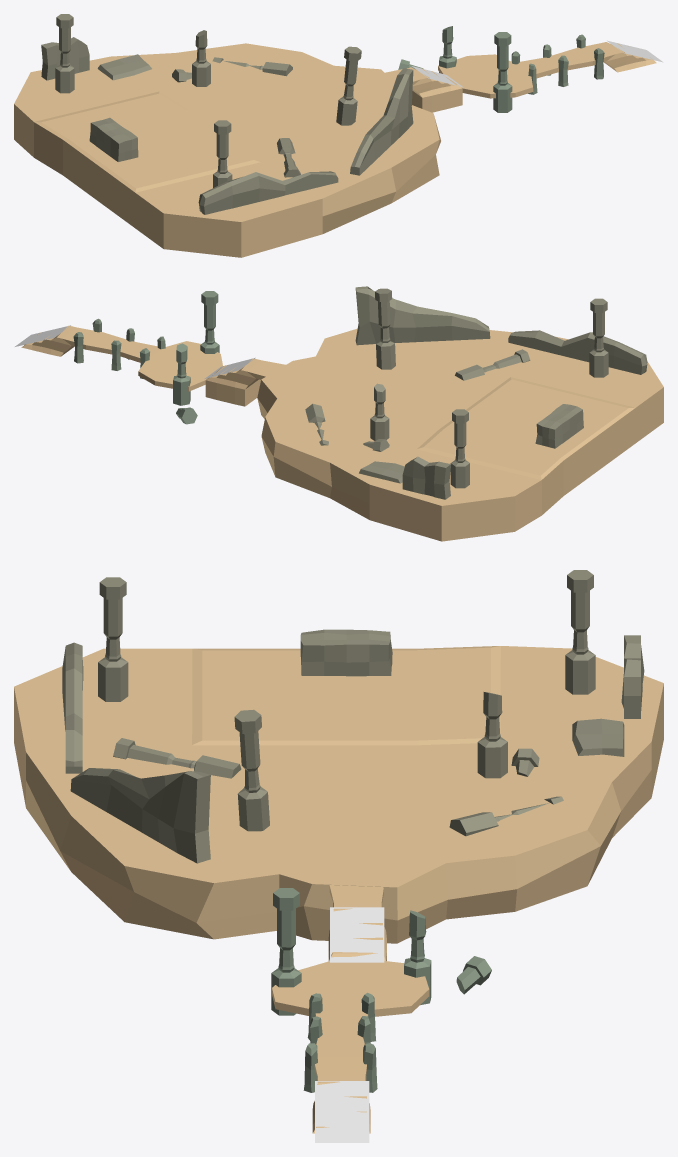
File: Ruins.fbx
3 renders of one model, top to bottom at view 1: azimuth 30°, elevation 25°; view 2: azimuth 150°, elevation 25°; view 3: azimuth 270°, elevation 25°, orthographic. The views are drawn at different scales.
Parts seen in each view (by area): view 1: Cube.001, Cube, Cube.004, Cube.006, Cube.002, Cube.005, Cylinder.017, Cylinder.009, Cylinder.006, Cylinder.012, Cube.007, Cylinder.010 (+4 smaller); view 2: Cube.001, Cube, Cube.006, Cube.004, Cube.005, Cube.002, Cylinder.009, Cylinder.017, Cylinder.012, Cylinder.006, Cylinder.007, Cylinder.010 (+3 smaller); view 3: Cube.001, Cube, Cube.006, Cube.002, Ramp, Cylinder.012, Ramp.001, Cylinder.017, Cylinder.009, Cube.004, Cylinder.006, Cylinder.010 (+6 smaller).
Boxes of the visible parts, left/top/right/bottom form: Cube.001: left=14, top=43, right=440, bottom=257; Cube: left=385, top=42, right=656, bottom=112; Cube.004: left=198, top=171, right=338, bottom=214; Cube.006: left=350, top=68, right=413, bottom=175; Cube.002: left=89, top=117, right=138, bottom=161; Cube.005: left=41, top=37, right=89, bottom=80; Cylinder.017: left=55, top=14, right=74, bottom=93; Cylinder.009: left=336, top=46, right=361, bottom=125; Cylinder.006: left=493, top=32, right=512, bottom=112; Cylinder.012: left=213, top=120, right=232, bottom=187; Cube.007: left=97, top=54, right=151, bottom=80; Cylinder.010: left=192, top=30, right=210, bottom=86; Cube.001: left=257, top=328, right=663, bottom=541; Cube: left=21, top=325, right=285, bottom=406; Cube.006: left=355, top=286, right=490, bottom=345; Cube.004: left=508, top=330, right=647, bottom=374; Cube.005: left=402, top=456, right=451, bottom=499; Cube.002: left=535, top=404, right=583, bottom=448; Cylinder.009: left=375, top=288, right=395, bottom=369; Cylinder.017: left=450, top=409, right=469, bottom=488; Cylinder.012: left=589, top=298, right=608, bottom=377; Cylinder.006: left=200, top=291, right=219, bottom=353; Cylinder.007: left=173, top=343, right=190, bottom=405; Cylinder.010: left=370, top=383, right=389, bottom=440; Cube.001: left=14, top=646, right=663, bottom=943; Cube: left=272, top=885, right=429, bottom=1133; Cube.006: left=70, top=768, right=210, bottom=863; Cube.002: left=300, top=629, right=392, bottom=676; Ramp: left=315, top=1081, right=369, bottom=1142; Cylinder.012: left=98, top=577, right=128, bottom=701; Ramp.001: left=330, top=907, right=384, bottom=962; Cylinder.017: left=565, top=570, right=595, bottom=694; Cylinder.009: left=234, top=709, right=269, bottom=831; Cube.004: left=62, top=642, right=83, bottom=773; Cylinder.006: left=271, top=888, right=301, bottom=1015; Cylinder.010: left=477, top=692, right=507, bottom=778.
Bounding box in the file's own units: 978 × 182 × 612.
